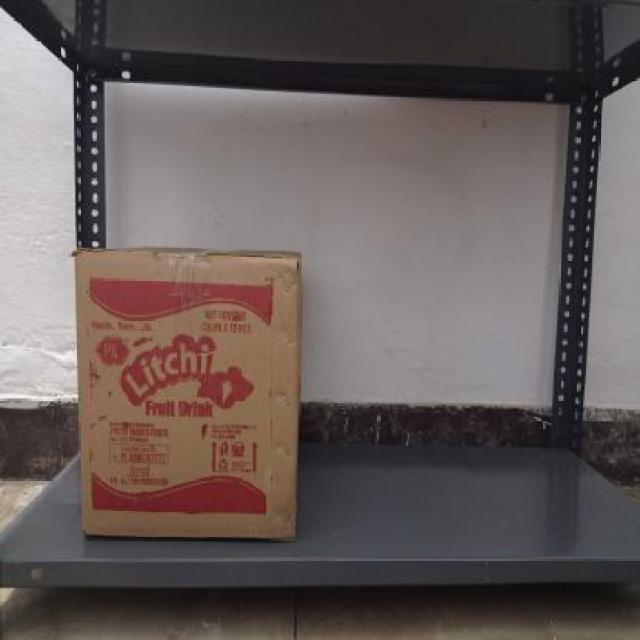box: (73, 244, 298, 542)
